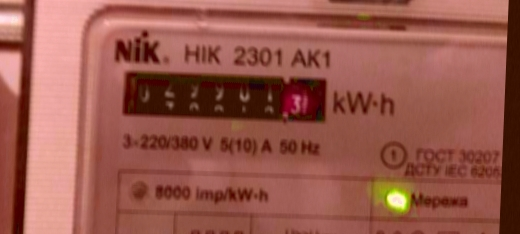0: (236, 77, 251, 103), (135, 80, 151, 102)
1: (261, 79, 275, 103)
2: (160, 78, 177, 98)
3: (287, 91, 301, 114)
9: (211, 78, 226, 101), (186, 77, 199, 100)
screen: (108, 59, 337, 132)
